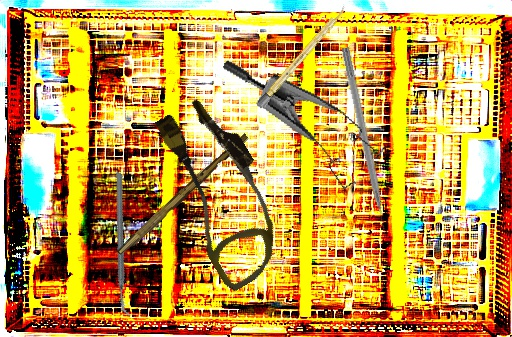Cannula: (134, 88, 308, 295)
Chopper: (67, 171, 180, 317)
Pusher: (338, 46, 391, 241)
Scalpel Handle: (116, 130, 250, 260), (257, 4, 348, 108)
Speculum: (198, 58, 397, 197)
